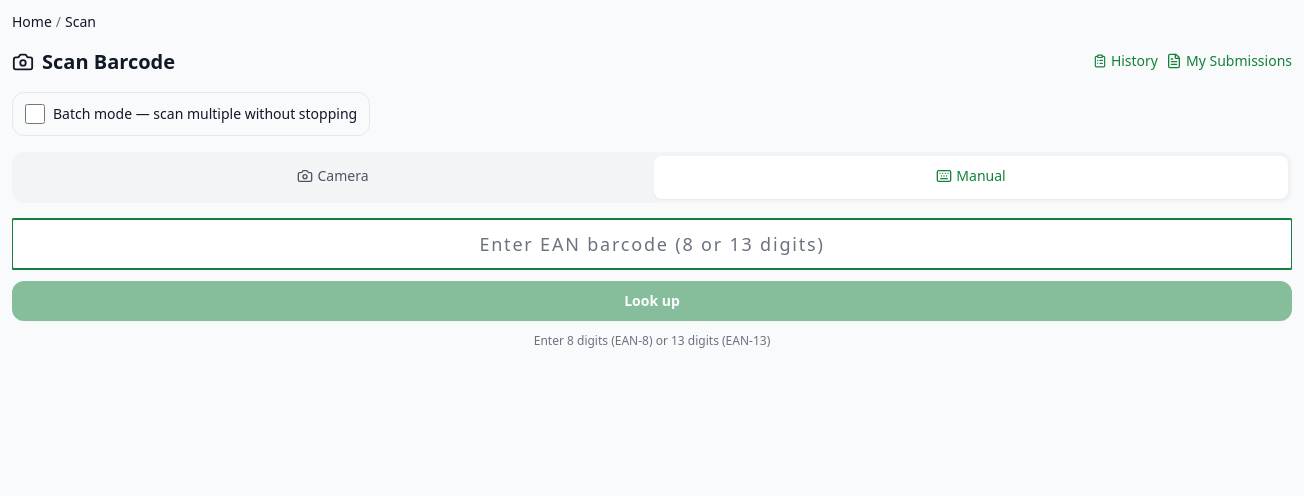
Test: ScanPage › batch mode adds found products to scanned list with toast
Note: Enable batch mode
Click the checkbox labelled "Batch mode — scan multiple without stopping" at {"x": 35, "y": 114}, box x1=25 y1=104 x2=45 y2=124
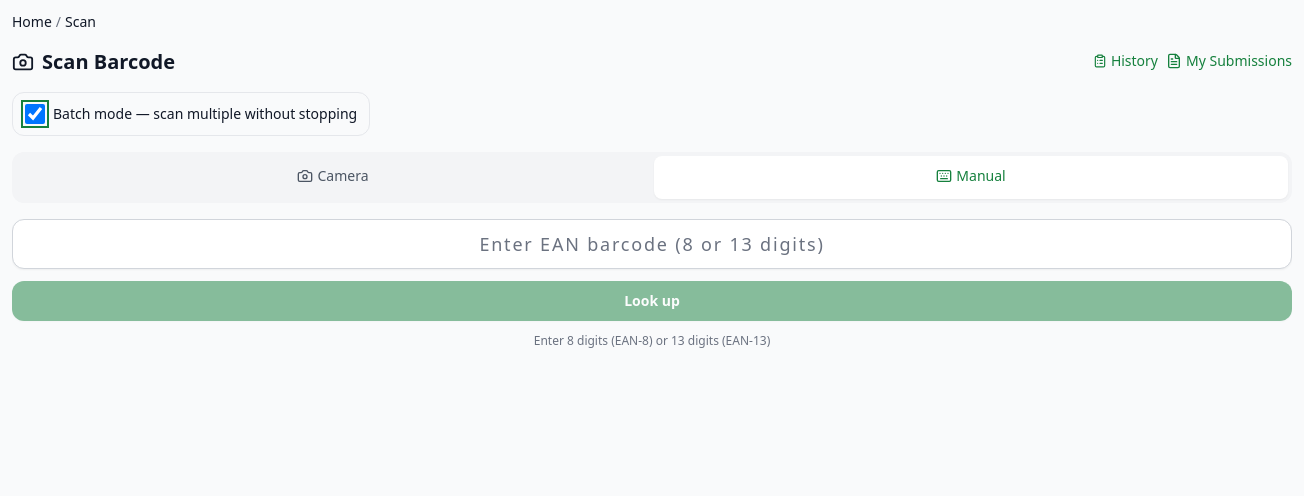
Note: Switch to manual and scan
Click the button "Manual" at {"x": 971, "y": 178}, box x1=654 y1=156 x2=1288 y2=199
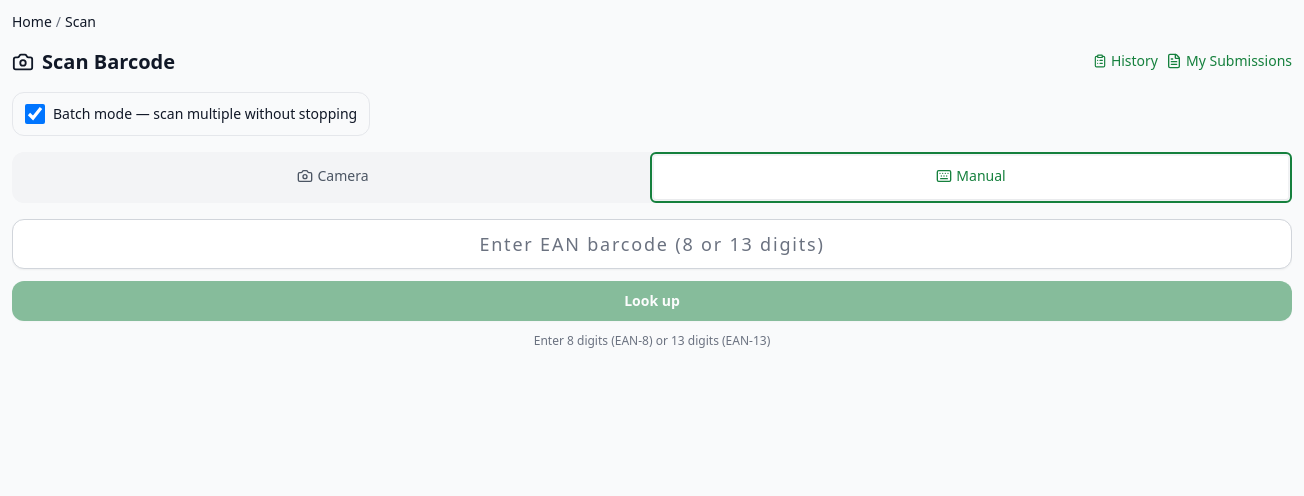
Type "5901234123457" into the field with placeholder "Enter EAN barcode (8 or 13 digits)" at {"x": 652, "y": 244}, box x1=12 y1=219 x2=1292 y2=269
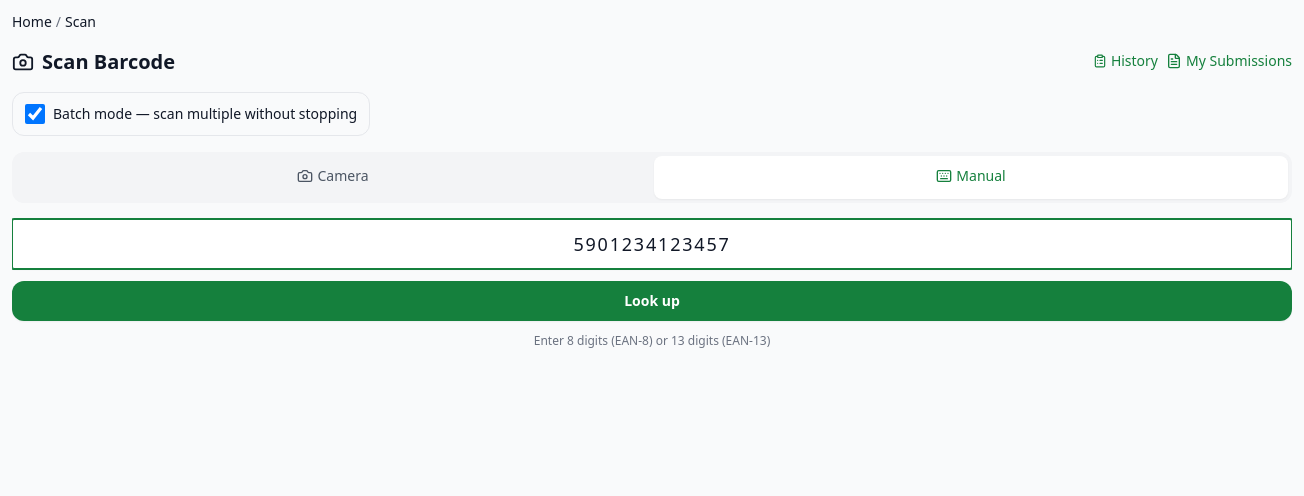
Click the button "Look up" at {"x": 652, "y": 301}, box x1=12 y1=281 x2=1292 y2=321
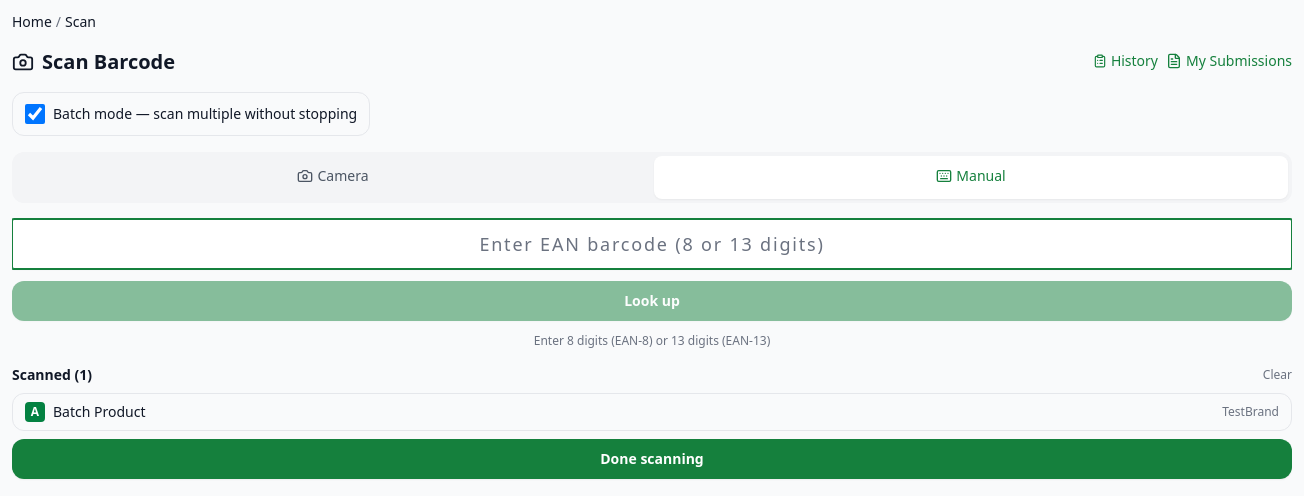
Now the button "Batch Product" is shown, box x1=53 y1=402 x2=1214 y2=422
Now the heading "Scanned (1)" is shown, box x1=12 y1=365 x2=92 y2=385
